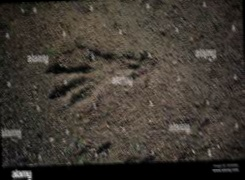fox: (92, 131, 175, 168), (108, 73, 186, 112)
